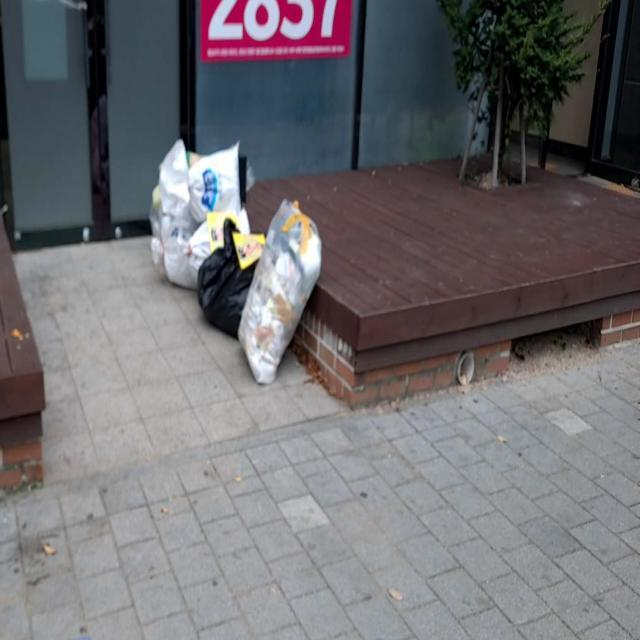Trashbag: (190, 251, 260, 328)
